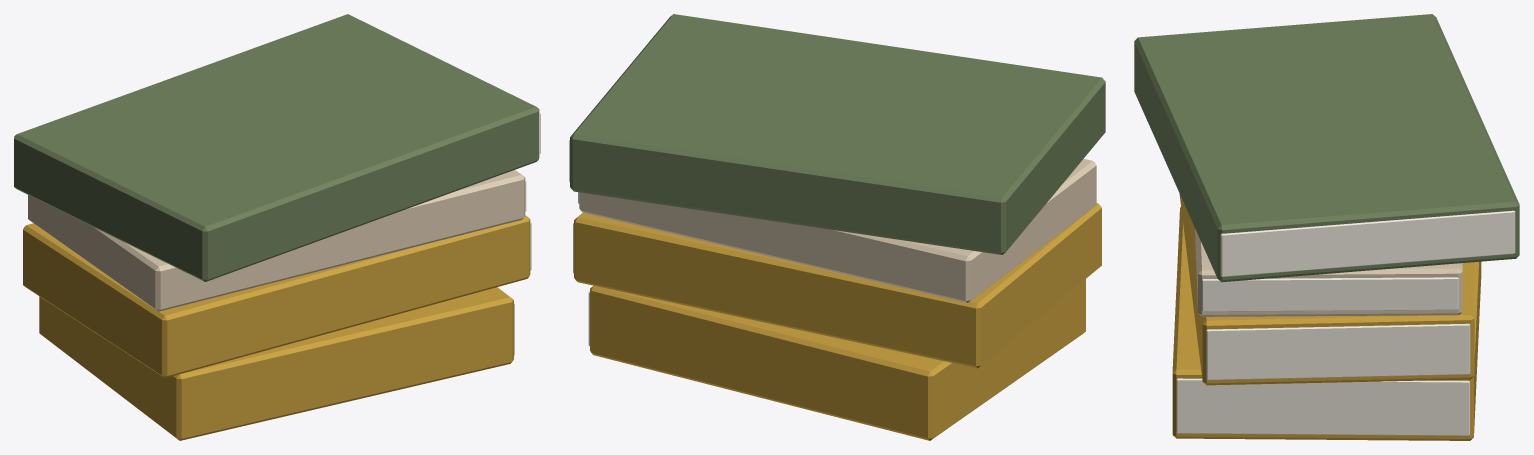
File: i_books_l1.glb
3 renders of one model, left to right at view 1: azimuth 30°, elevation 25°; view 2: azimuth 150°, elevation 25°; view 3: azimuth 270°, elevation 25°, orthographic. The views are drawn at different scales.
Visible parts, largest first — view 1: o.006, o.002, o, o.004; view 2: o.006, o.002, o, o.004; view 3: o.006, o.001, o.003, o.007, o.005, o.002, o, o.004.
Boxes of the visible parts, x1,y1,x2,y2 form: o.006: (14, 14, 539, 281); o.002: (23, 215, 530, 377); o: (39, 287, 513, 440); o.004: (28, 170, 525, 311); o.006: (570, 14, 1105, 254); o.002: (574, 203, 1101, 368); o: (590, 279, 1085, 440); o.004: (579, 159, 1096, 302); o.006: (1134, 14, 1519, 282); o.001: (1176, 378, 1469, 435); o.003: (1206, 323, 1470, 380); o.007: (1220, 210, 1515, 276); o.005: (1202, 277, 1458, 311); o.002: (1179, 193, 1474, 385); o: (1172, 207, 1481, 440); o.004: (1195, 228, 1462, 316).
Size of the model in its own units: 0.2573 by 0.1325 by 0.1949.
